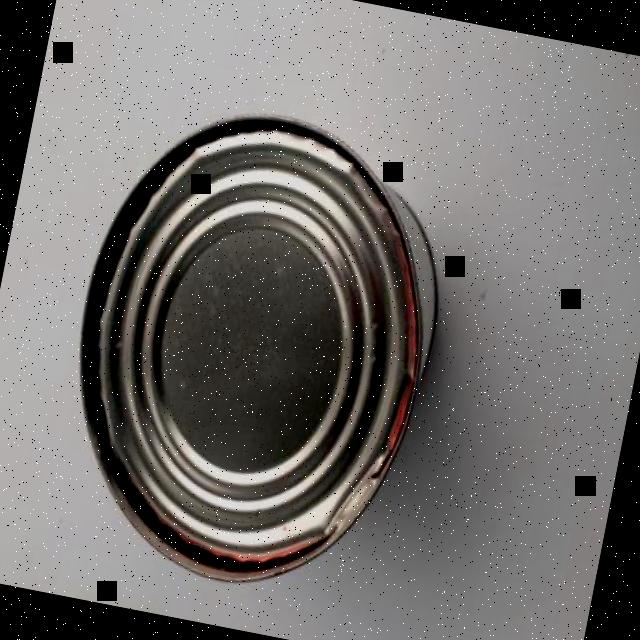can: (24, 81, 477, 626)
